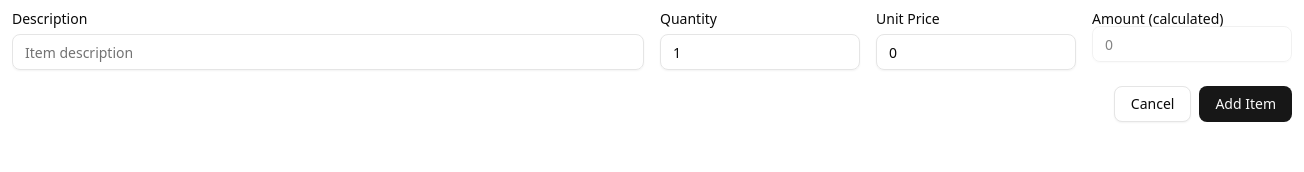
Test case: InvoiceItemForm › automatically calculates amount when quantity or unit price changes
This screenshot has width=1304, height=172.
# Clear and set new values
Replace the text in the number field labelled "Quantity" with "3" at (760, 52), box [660,34,860,70]
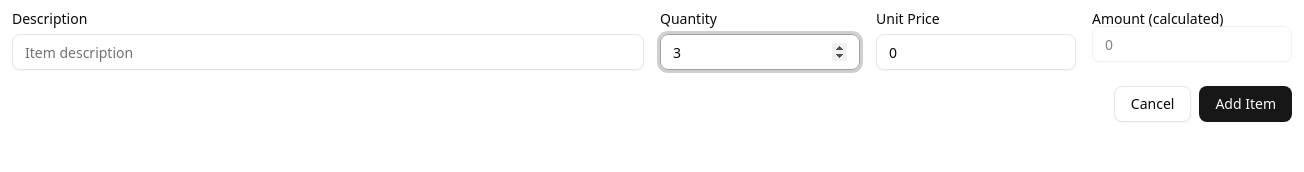
Replace the text in the number field labelled "Unit Price" with "25" at (976, 52), box [876,34,1076,70]
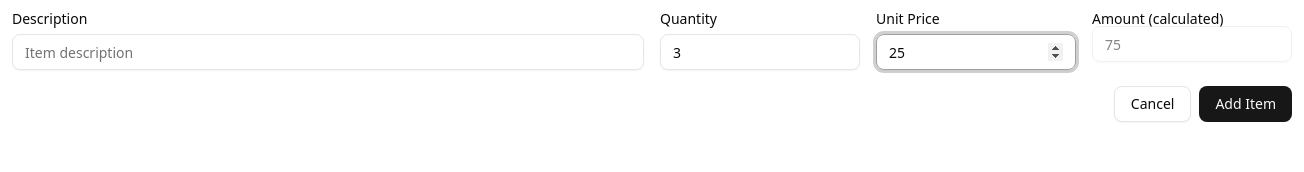
Now the number field labelled "Amount (calculated)" holds "75", box [1092,26,1292,62]
